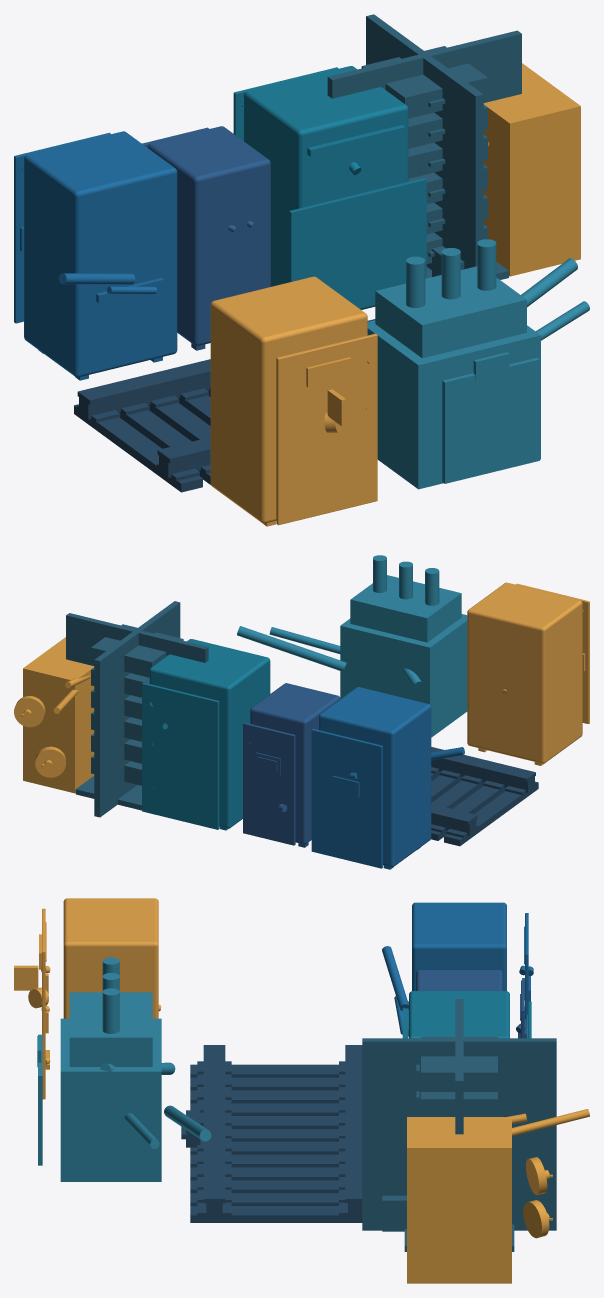
The model's file is regentransit-service.glb.
3 views of the same model, one above another, from view 1: azimuth 30°, elevation 25°; view 2: azimuth 150°, elevation 25°; view 3: azimuth 270°, elevation 25° (orthographic). The views are drawn at different scales.
Visible parts, largest first — view 1: regentransit.protection_switchgear, regentransit.traction_inverter, regentransit.grid_wayside_interface, regentransit.wayside_converter, regentransit.storage_rack, regentransit.braking_control, regentransit.thermal_management, regentransit.rail_interface; view 2: regentransit.traction_inverter, regentransit.protection_switchgear, regentransit.wayside_converter, regentransit.grid_wayside_interface, regentransit.storage_rack, regentransit.braking_control, regentransit.thermal_management, regentransit.rail_interface; view 3: regentransit.rail_interface, regentransit.storage_rack, regentransit.grid_wayside_interface, regentransit.thermal_management, regentransit.protection_switchgear, regentransit.traction_inverter, regentransit.wayside_converter, regentransit.braking_control.
Part boxes in pixels (x1,y1,x2,y2): regentransit.protection_switchgear: (210,276,377,526); regentransit.traction_inverter: (14,131,177,380); regentransit.grid_wayside_interface: (367,239,589,489); regentransit.wayside_converter: (233,66,426,309); regentransit.storage_rack: (327,14,521,279); regentransit.braking_control: (142,126,270,350); regentransit.thermal_management: (483,63,580,276); regentransit.rail_interface: (74,319,375,492); regentransit.traction_inverter: (311,687,464,869); regentransit.protection_switchgear: (467,582,589,765); regentransit.wayside_converter: (142,639,270,830); regentransit.grid_wayside_interface: (237,555,467,737); regentransit.storage_rack: (66,601,208,817); regentransit.braking_control: (243,683,340,847); regentransit.thermal_management: (14,637,94,793); regentransit.rail_interface: (431,747,538,846); regentransit.rail_interface: (181,1045,362,1222); regentransit.storage_rack: (362,999,556,1251); regentransit.grid_wayside_interface: (37,957,211,1181); regentransit.thermal_management: (407,1109,589,1283); regentransit.protection_switchgear: (14,898,161,1099); regentransit.traction_inverter: (382,902,533,1036); regentransit.wayside_converter: (402,991,531,1038); regentransit.braking_control: (416,970,526,1038).
Size of the model in its own units: 2689 by 1110 by 2844.
